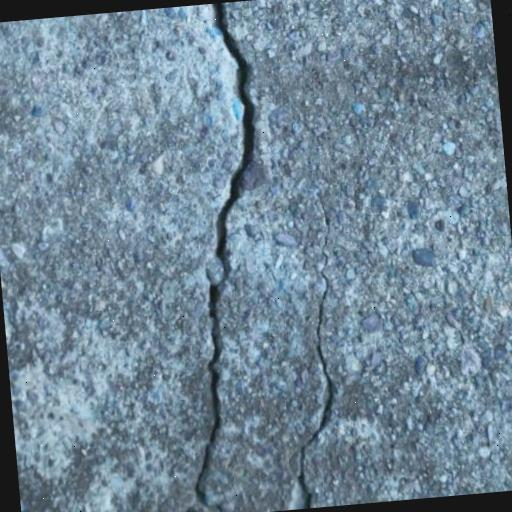spalling: (187, 2, 268, 512), (291, 185, 342, 505)
